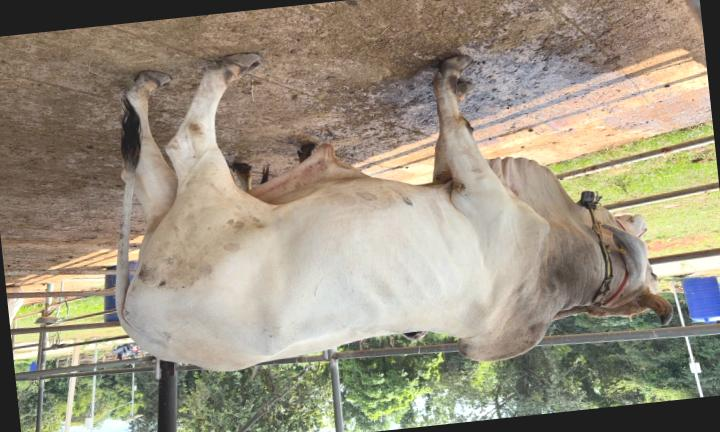Brahman: (115, 54, 673, 371)
